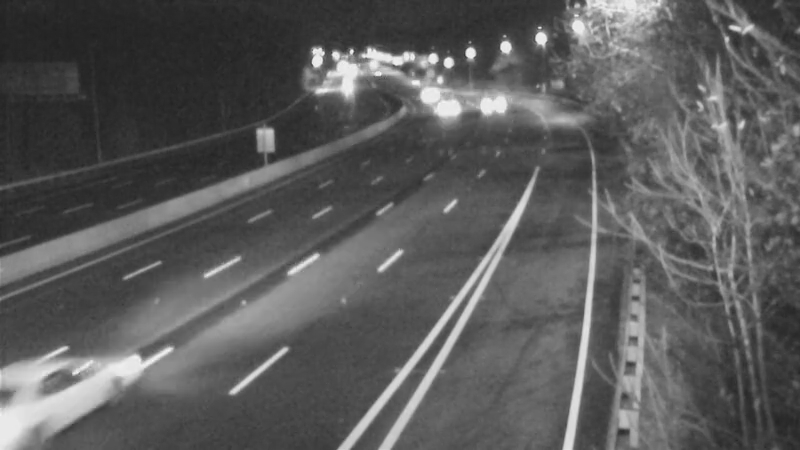vehicle: (6, 336, 116, 446), (399, 70, 449, 120), (466, 78, 516, 128), (418, 80, 468, 130)
